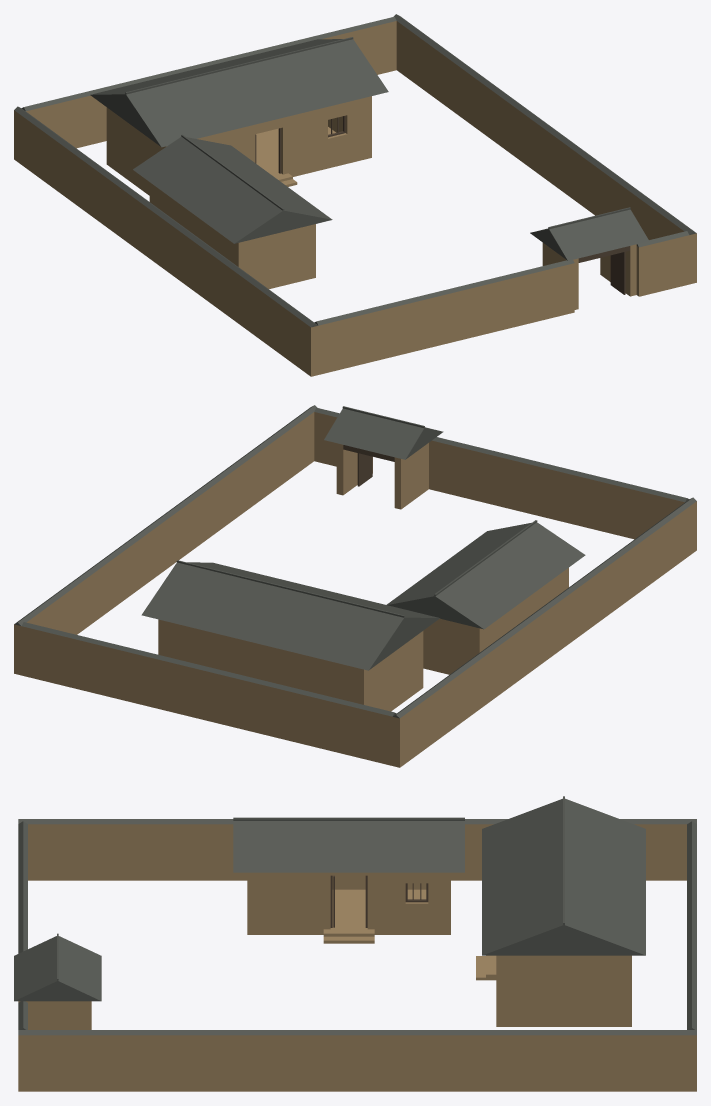
File: court-A-LOD2.glb
3 views of the same model, one above another, from view 1: azimuth 30°, elevation 25°; view 2: azimuth 150°, elevation 25°; view 3: azimuth 270°, elevation 25° (orthographic). The views are drawn at different scales.
Visible parts, largest first — view 1: court-A-static_earth, court-A-static_tile, court-A-static_timber; view 2: court-A-static_earth, court-A-static_tile, court-A-static_timber; view 3: court-A-static_earth, court-A-static_tile, court-A-static_timber.
Part boxes in pixels (x1,y1,x2,y2): court-A-static_earth: (14,21,696,376); court-A-static_tile: (14,14,696,327); court-A-static_timber: (255,115,630,294); court-A-static_earth: (14,412,696,767); court-A-static_tile: (14,405,696,718); court-A-static_timber: (343,445,394,486); court-A-static_earth: (18,824,696,1091); court-A-static_tile: (14,796,696,1035); court-A-static_timber: (330,875,428,927).
Bounding box in the file's own units: 18 × 4.29 × 24.15.
